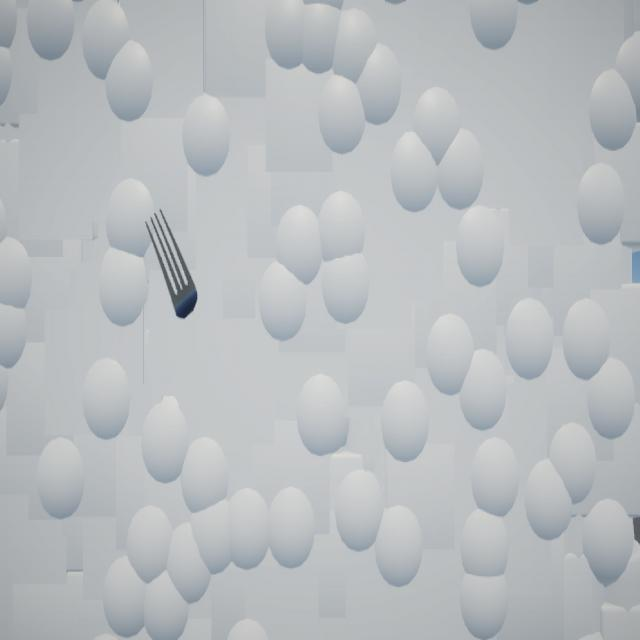top_folk: (146, 210, 199, 321)
